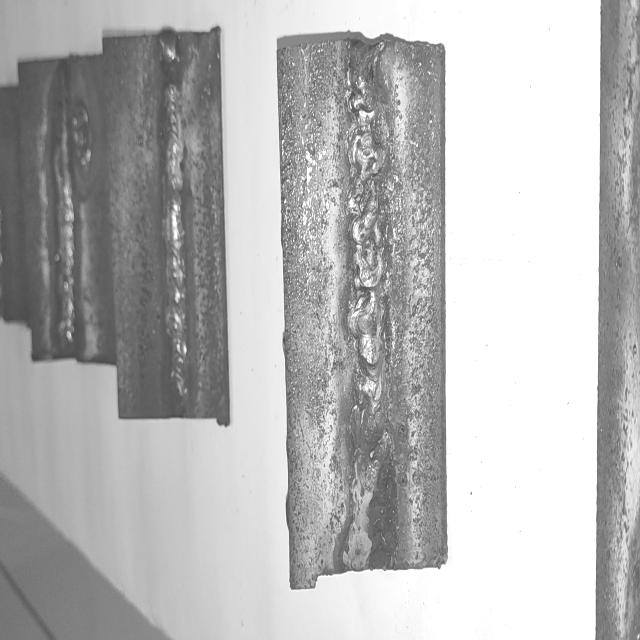Bad Weld: (347, 62, 384, 446), (160, 40, 190, 415), (57, 72, 72, 346)
Defect: (340, 48, 391, 440), (52, 92, 95, 177), (153, 43, 192, 98)
